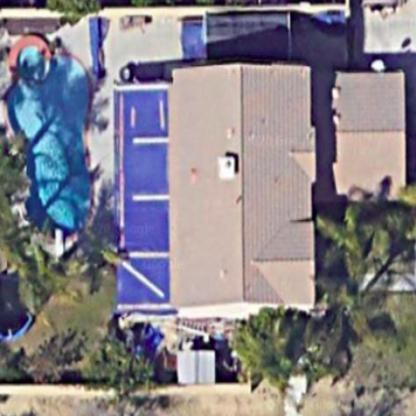swimming_pool: (1, 28, 99, 248)
